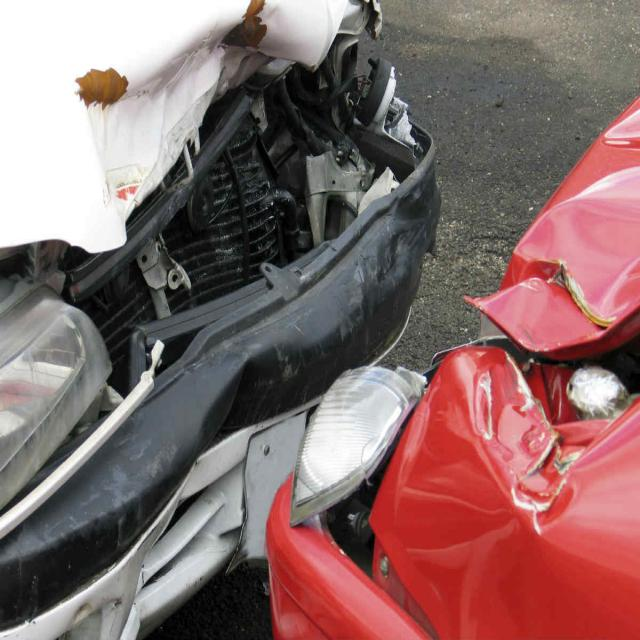car-minor-accident: (6, 5, 637, 634)
